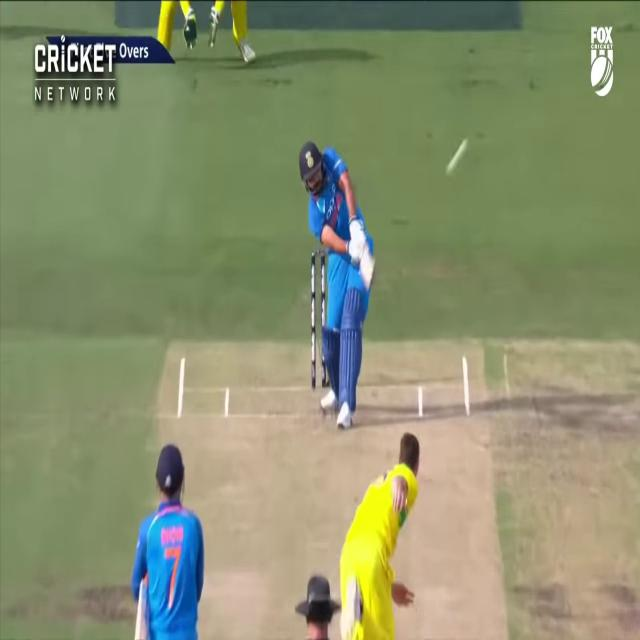ball: (445, 135, 468, 176)
stump: (311, 249, 330, 390)
